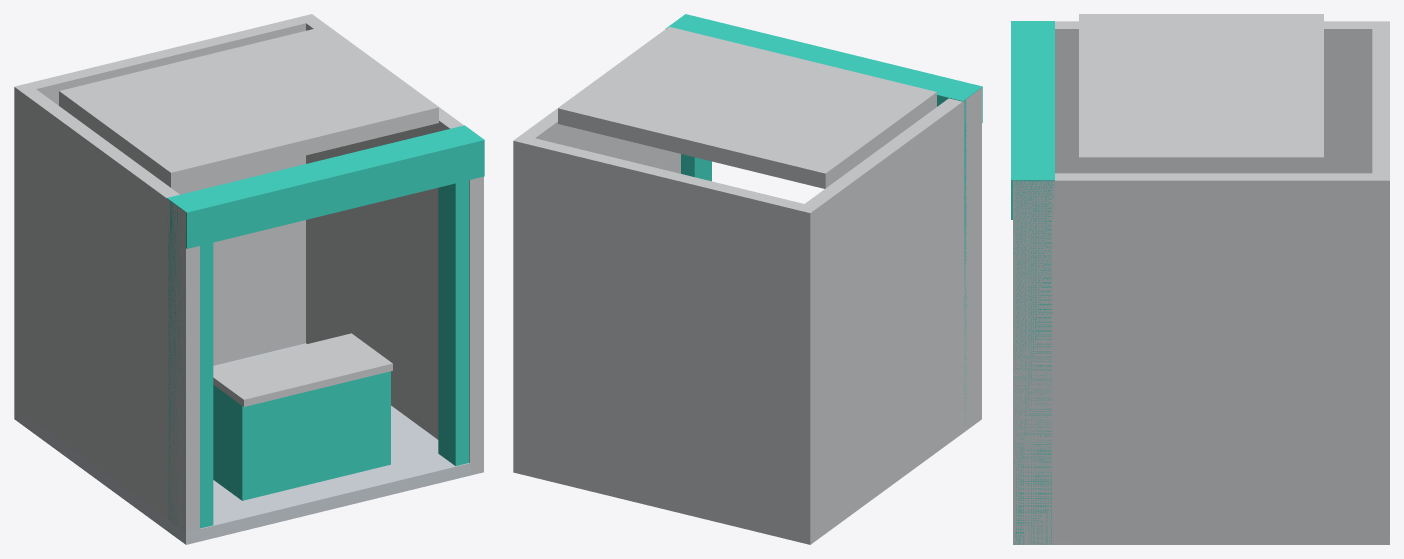
3 views of the same model, side by side, from view 1: azimuth 30°, elevation 25°; view 2: azimuth 150°, elevation 25°; view 3: azimuth 270°, elevation 25° (orthographic). The views are drawn at different scales.
Visible parts, largest first — view 1: Exhibition Booth Concept; view 2: Exhibition Booth Concept; view 3: Exhibition Booth Concept.
Part boxes in pixels (x1,y1,x2,y2): Exhibition Booth Concept: (14, 14, 484, 544); Exhibition Booth Concept: (513, 14, 982, 544); Exhibition Booth Concept: (1011, 14, 1389, 544).
Bounding box in the file's own units: 3 × 3.34 × 3.01.
